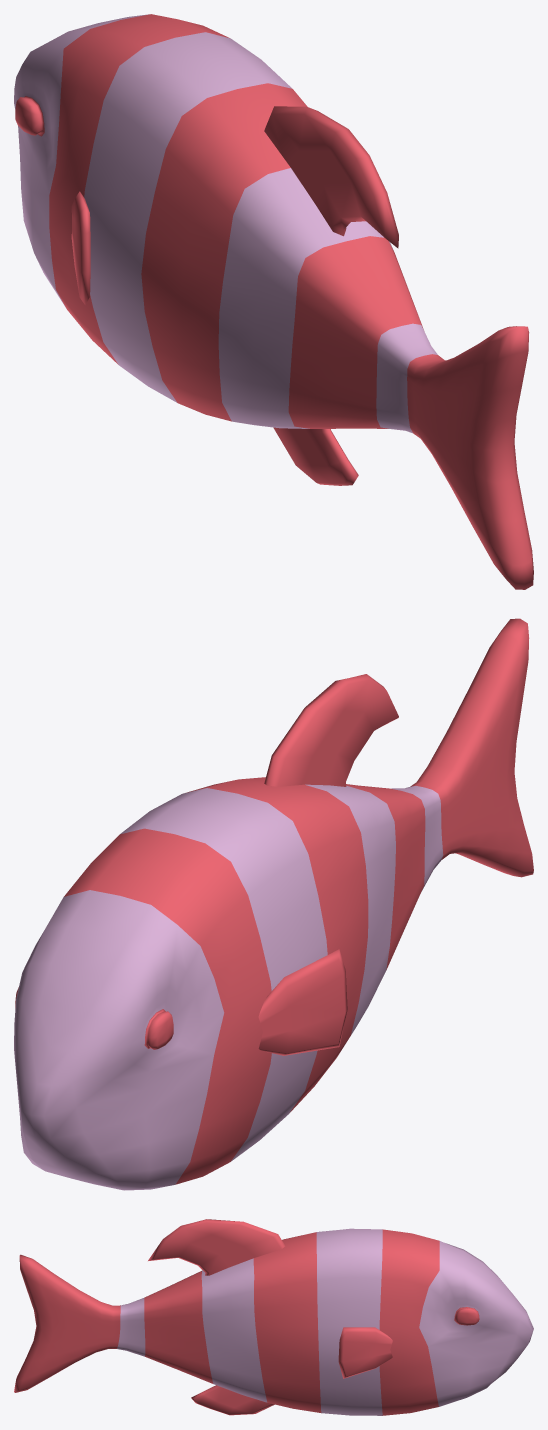
The model's file is Fish_03.fbx.
3 renders of one model, top to bottom at view 1: azimuth 30°, elevation 25°; view 2: azimuth 150°, elevation 25°; view 3: azimuth 270°, elevation 25°, orthographic. The views are drawn at different scales.
Visible parts, largest first — view 1: Fish_03; view 2: Fish_03; view 3: Fish_03.
Part boxes in pixels (x1,y1,x2,y2): Fish_03: (14, 14, 533, 589); Fish_03: (14, 618, 533, 1190); Fish_03: (14, 1219, 533, 1415).
Bounding box in the file's own units: 170 × 228 × 549.
